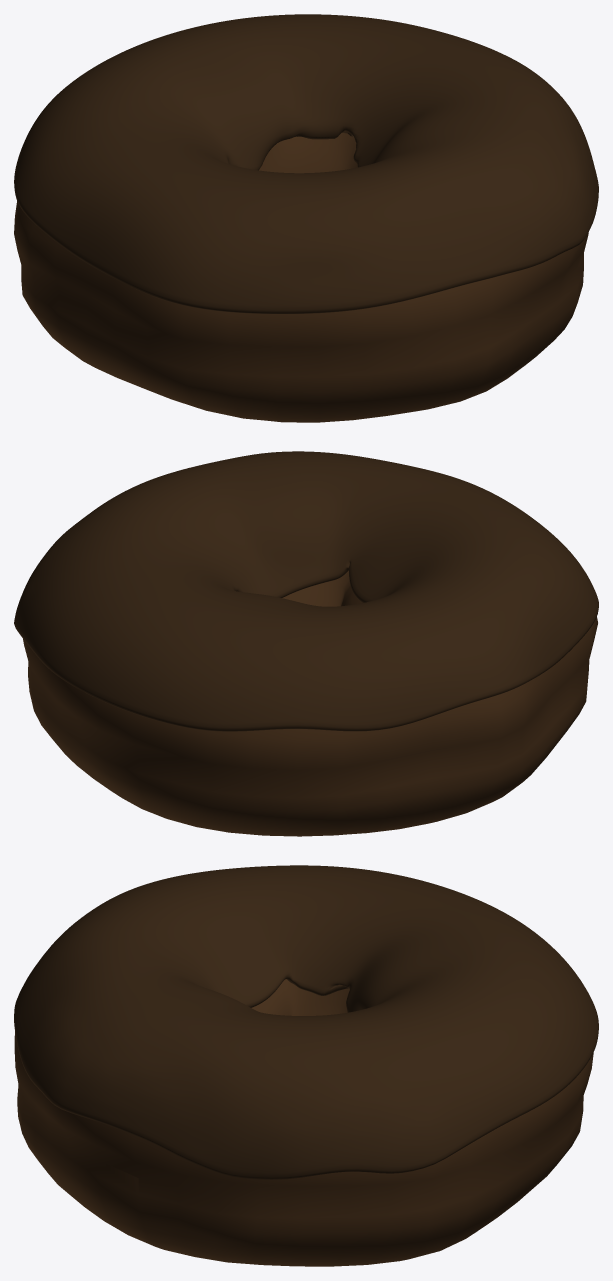
File: donutChocolate.glb
The picture shows the model from 3 angles, top to bottom: view 1: azimuth 30°, elevation 25°; view 2: azimuth 150°, elevation 25°; view 3: azimuth 270°, elevation 25°; orthographic projection. The views are drawn at different scales.
Visible parts, largest first — view 1: Icing, donut; view 2: Icing, donut; view 3: Icing, donut.
Part boxes in pixels (left/top/right/bottom): Icing: left=14, top=14, right=598, bottom=313; donut: left=14, top=133, right=588, bottom=422; Icing: left=14, top=451, right=598, bottom=731; donut: left=23, top=570, right=597, bottom=836; Icing: left=14, top=865, right=598, bottom=1179; donut: left=14, top=979, right=593, bottom=1266.
Size of the model in its own units: 0.5637 by 0.2512 by 0.5615.
